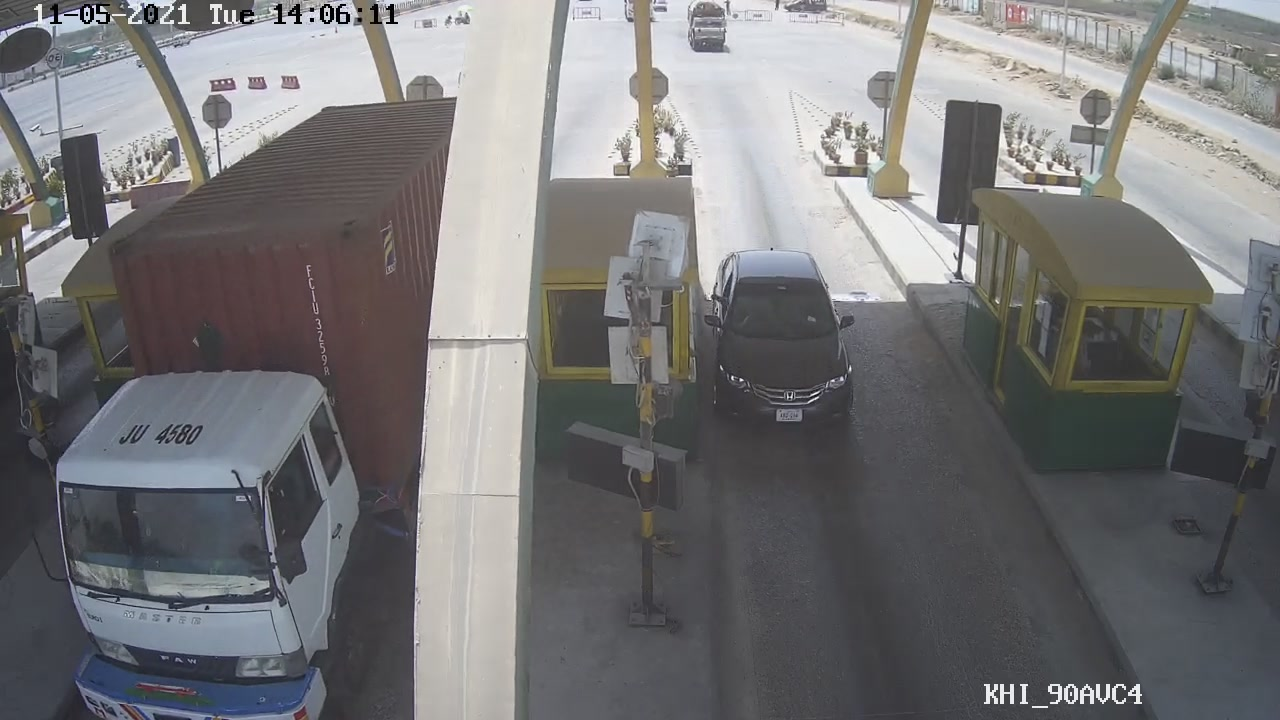F1: (704, 232, 871, 444)
